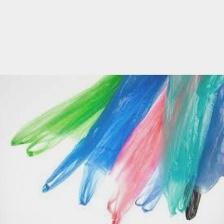plastic_bag: (34, 73, 169, 210), (97, 75, 187, 223), (2, 72, 125, 162), (135, 71, 208, 217), (160, 72, 222, 221)
